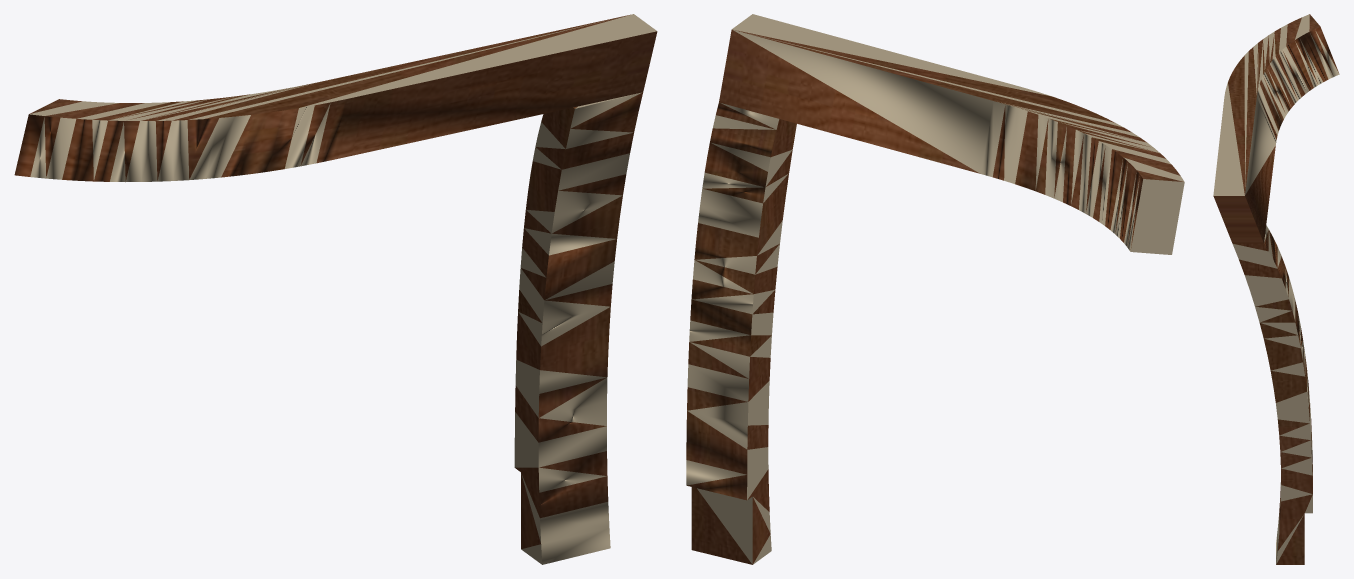
The model's file is left_arm.obj.
The picture shows the model from 3 angles, left to right: view 1: azimuth 30°, elevation 25°; view 2: azimuth 150°, elevation 25°; view 3: azimuth 270°, elevation 25°; orthographic projection. The views are drawn at different scales.
Visible parts, largest first — view 1: left_arm_mesh2.001_mesh2-geometry; view 2: left_arm_mesh2.001_mesh2-geometry; view 3: left_arm_mesh2.001_mesh2-geometry.
Part boxes in pixels (x1=…): left_arm_mesh2.001_mesh2-geometry: x1=14, y1=14, x2=657, y2=564; left_arm_mesh2.001_mesh2-geometry: x1=686, y1=14, x2=1184, y2=564; left_arm_mesh2.001_mesh2-geometry: x1=1213, y1=14, x2=1339, y2=564.
Size of the model in its own units: 0.2587 by 0.2449 by 0.0759.
